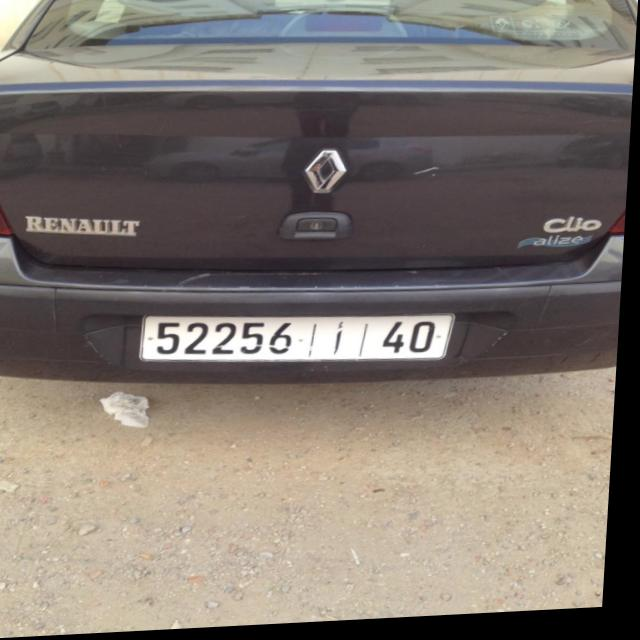License-Plate: (145, 318, 457, 366)
